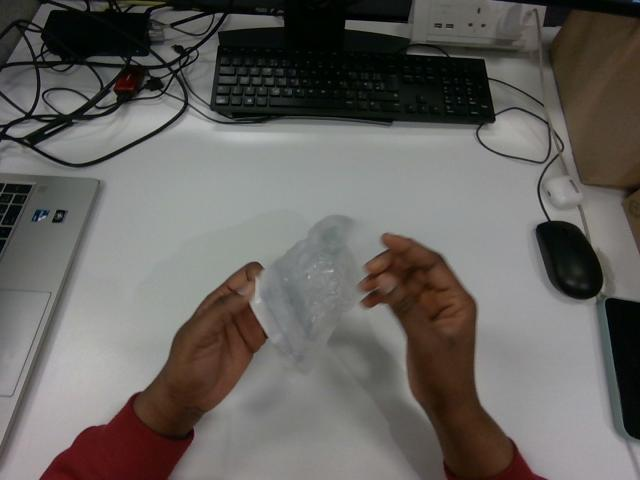gallipot: (251, 215, 357, 372)
